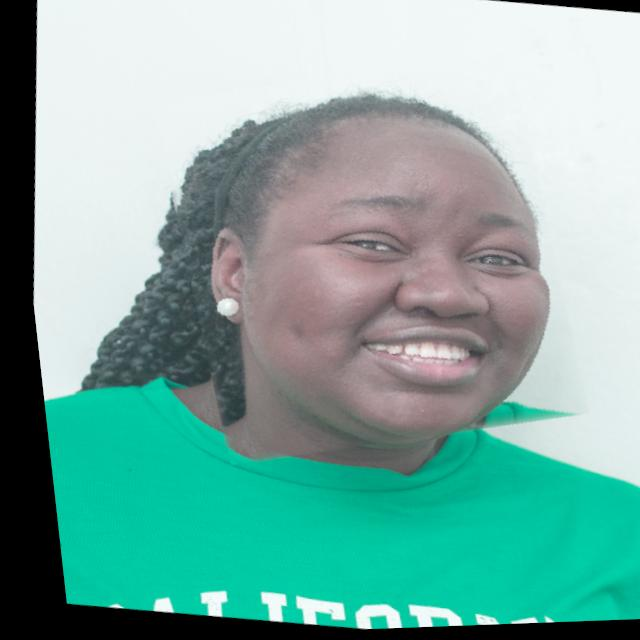happy: (120, 30, 606, 491)
